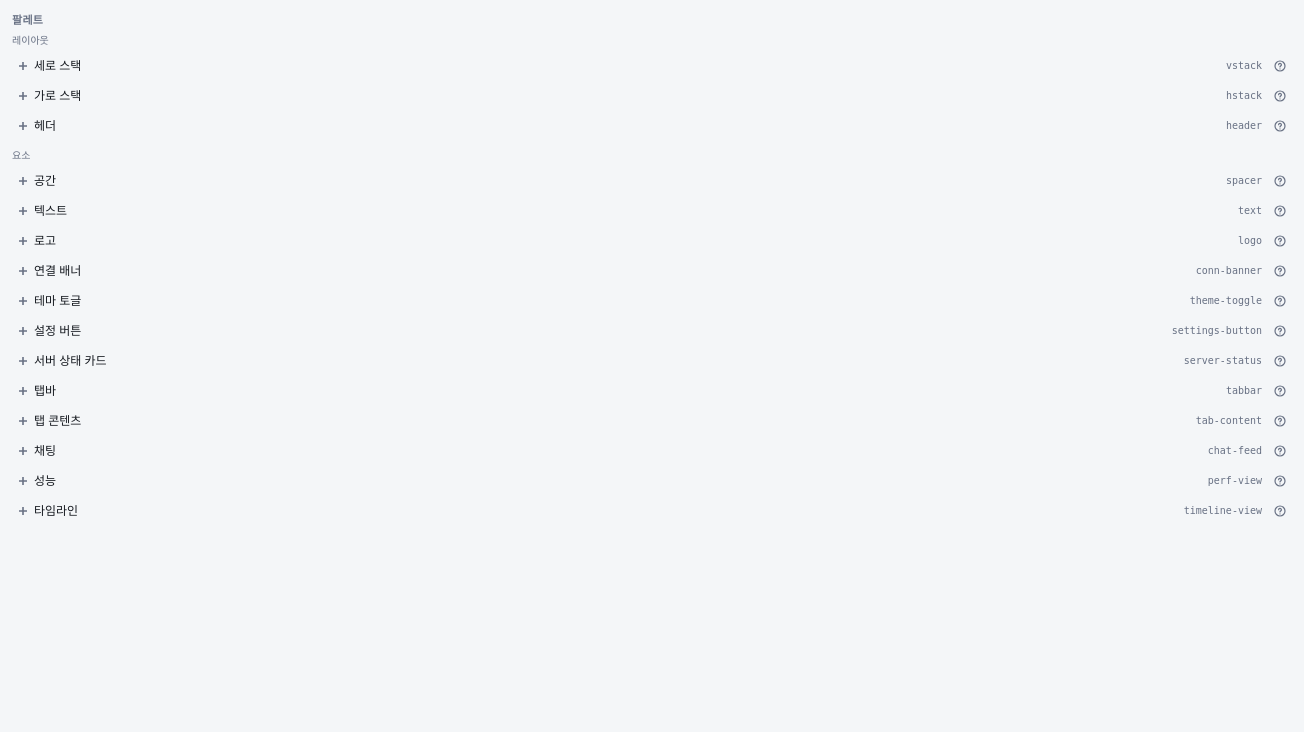
Test case: Palette (도움말 토글 — T3.3) › 설명은 한 번에 하나만 열린다(다른 행을 열면 이전 행은 닫힘)
The width and height of the screenshot is (1304, 732).
Step 1. Click the button named "세로 스택 설명" → [1280, 66], box [1268,54,1292,78]
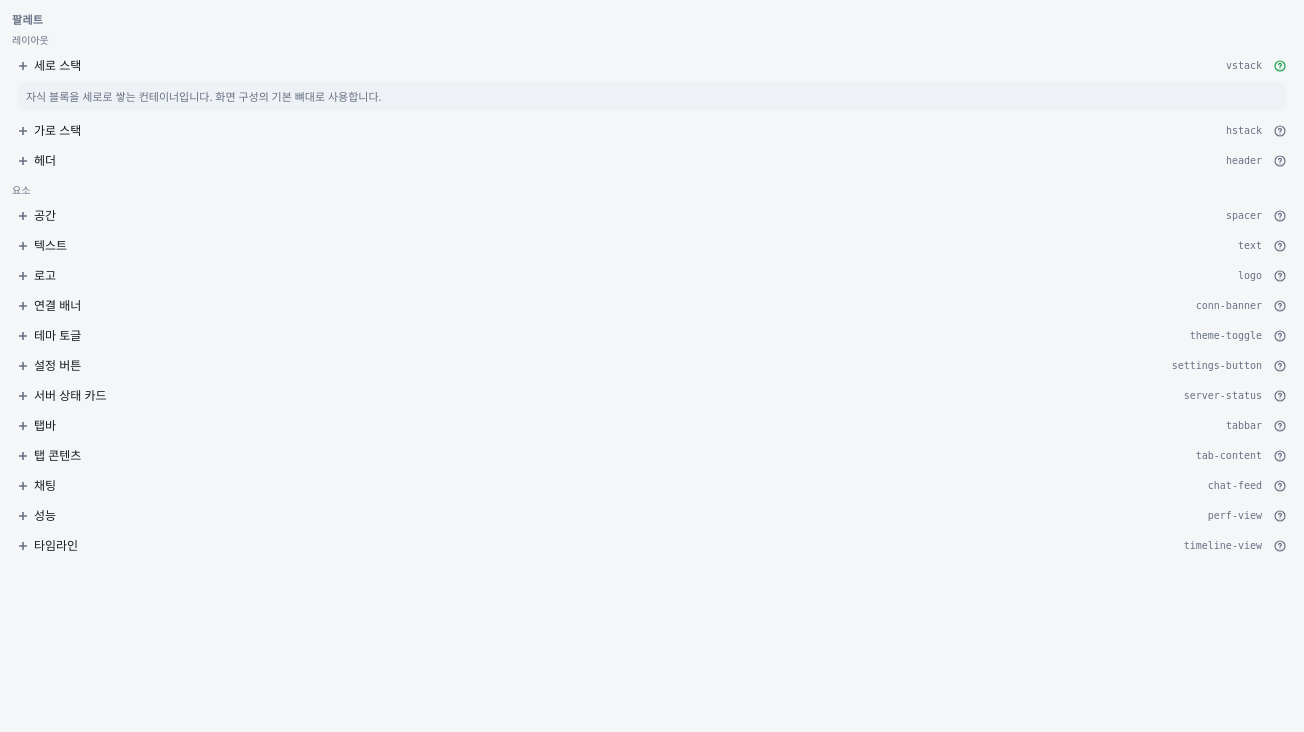
Step 2. Click the button named "가로 스택 설명" → [1280, 131], box [1268,119,1292,143]
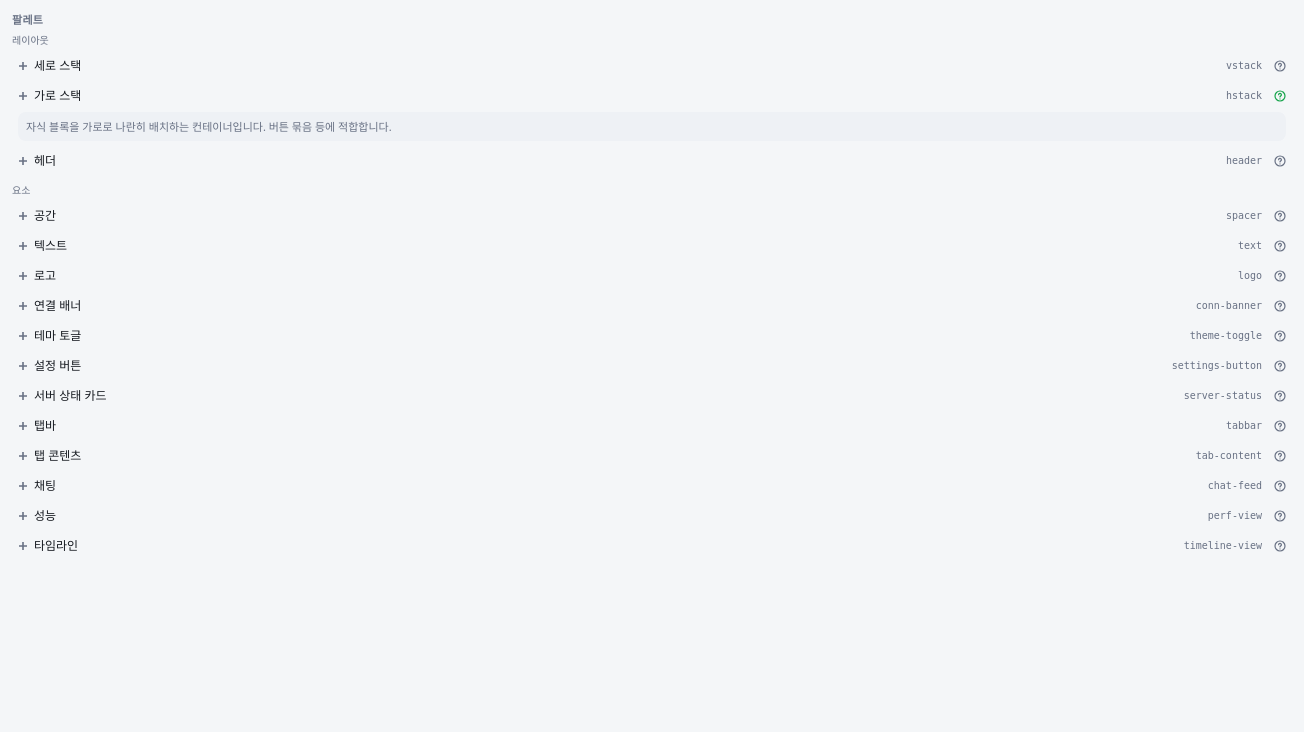
Expected: the text "자식 블록을 가로로 나란히 배치하는 컨테이너입니다. 버튼 묶음 등에 적합합니다." is shown, [18,112,1286,141]
